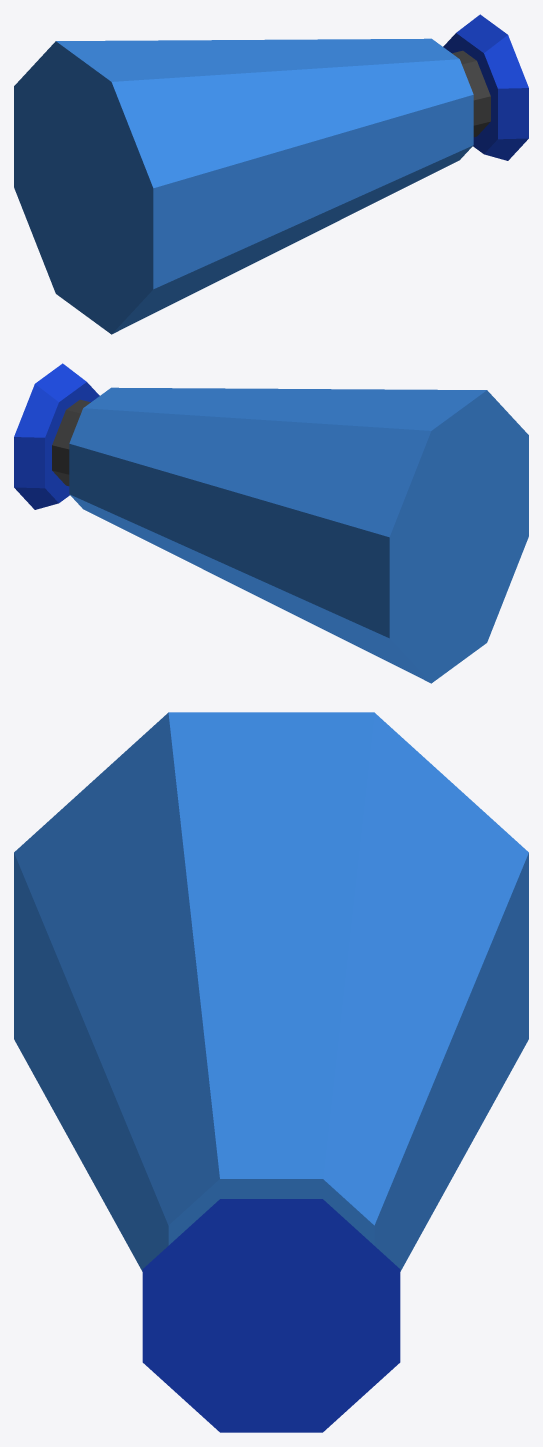
File: arm.FBX
3 views of the same model, one above another, from view 1: azimuth 30°, elevation 25°; view 2: azimuth 150°, elevation 25°; view 3: azimuth 270°, elevation 25° (orthographic). The views are drawn at different scales.
Visible parts, largest first — view 1: VIFS001, VIFS003, VIFS002; view 2: VIFS001, VIFS003, VIFS002; view 3: VIFS001, VIFS003.
Part boxes in pixels (x1,y1,x2,y2): VIFS001: [14, 38, 473, 334]; VIFS003: [443, 14, 528, 160]; VIFS002: [452, 50, 490, 137]; VIFS001: [69, 387, 528, 683]; VIFS003: [14, 363, 99, 509]; VIFS002: [52, 399, 90, 486]; VIFS001: [14, 712, 528, 1271]; VIFS003: [142, 1199, 400, 1432].
Size of the model in its own units: 0.51 by 0.3 by 0.3.
